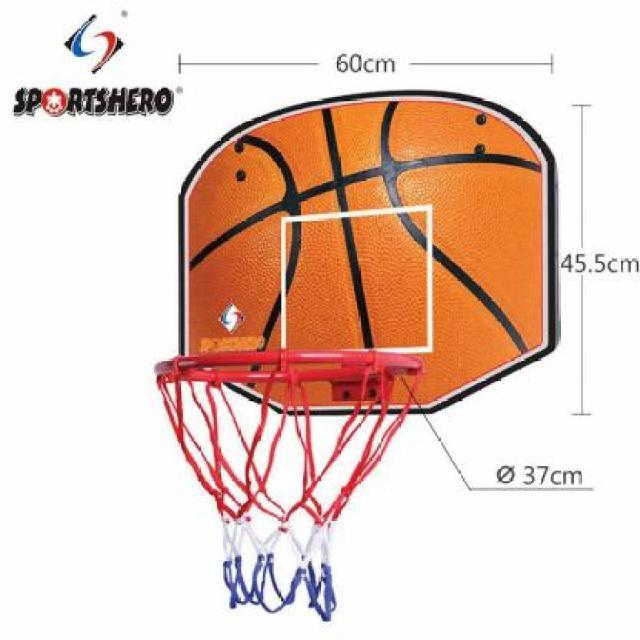rim: (154, 348, 420, 620)
